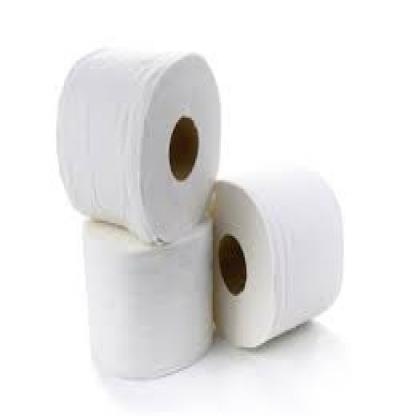tissue: (59, 41, 224, 242)
